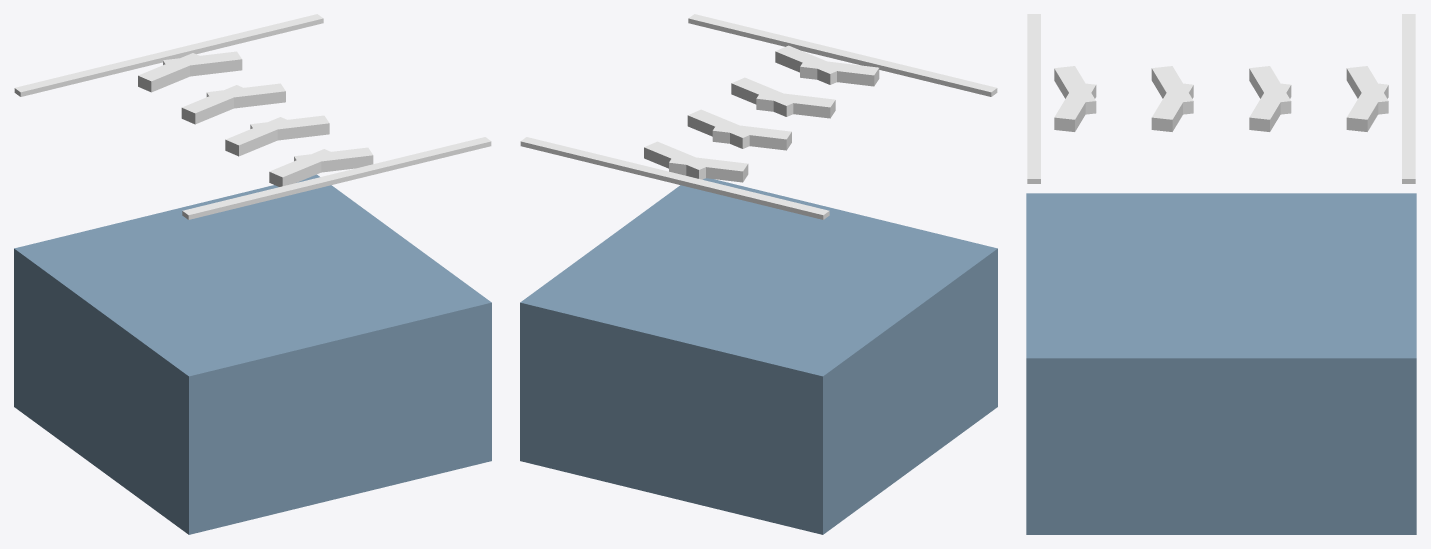
File: OnOffConveyorB_Half.glb
The picture shows the model from 3 angles, left to right: view 1: azimuth 30°, elevation 25°; view 2: azimuth 150°, elevation 25°; view 3: azimuth 270°, elevation 25°; orthographic projection. The views are drawn at different scales.
Visible parts, largest first — view 1: OnOffConveyorB_Half_body, rail_-0.016, rail_0.016, chev_2_1.016, chev_1_1.016, chev_3_1.016, chev_0_1.016, chev_1_-1.016, chev_0_-1.016, chev_2_-1.016, chev_3_-1.016; view 2: OnOffConveyorB_Half_body, rail_0.016, rail_-0.016, chev_2_1.016, chev_3_1.016, chev_1_-1.016, chev_0_1.016, chev_0_-1.016, chev_1_1.016, chev_3_-1.016, chev_2_-1.016; view 3: OnOffConveyorB_Half_body, rail_0.016, rail_-0.016, chev_3_-1.016, chev_2_-1.016, chev_0_-1.016, chev_1_-1.016, chev_2_1.016, chev_3_1.016, chev_1_1.016, chev_0_1.016.
Part boxes in pixels (x1=…): OnOffConveyorB_Half_body: x1=14, y1=174, x2=491, y2=534; rail_-0.016: x1=182, y1=137, x2=491, y2=219; rail_0.016: x1=14, y1=14, x2=323, y2=96; chev_2_1.016: x1=181, y1=85, x2=249, y2=124; chev_1_1.016: x1=225, y1=117, x2=293, y2=156; chev_3_1.016: x1=138, y1=53, x2=205, y2=92; chev_0_1.016: x1=269, y1=149, x2=336, y2=186; chev_1_-1.016: x1=250, y1=115, x2=329, y2=140; chev_0_-1.016: x1=294, y1=147, x2=373, y2=172; chev_2_-1.016: x1=206, y1=83, x2=285, y2=108; chev_3_-1.016: x1=163, y1=51, x2=242, y2=76; OnOffConveyorB_Half_body: x1=520, y1=178, x2=997, y2=534; rail_0.016: x1=520, y1=137, x2=829, y2=219; rail_-0.016: x1=688, y1=14, x2=997, y2=96; chev_2_1.016: x1=712, y1=123, x2=791, y2=150; chev_3_1.016: x1=669, y1=155, x2=748, y2=182; chev_1_-1.016: x1=731, y1=77, x2=799, y2=116; chev_0_1.016: x1=800, y1=59, x2=879, y2=86; chev_0_-1.016: x1=775, y1=45, x2=843, y2=84; chev_1_1.016: x1=756, y1=92, x2=835, y2=118; chev_3_-1.016: x1=644, y1=141, x2=711, y2=179; chev_2_-1.016: x1=687, y1=109, x2=749, y2=148; OnOffConveyorB_Half_body: x1=1026, y1=193, x2=1416, y2=534; rail_0.016: x1=1402, y1=14, x2=1415, y2=183; rail_-0.016: x1=1027, y1=14, x2=1040, y2=183; chev_3_-1.016: x1=1346, y1=83, x2=1388, y2=131; chev_2_-1.016: x1=1249, y1=82, x2=1291, y2=131; chev_0_-1.016: x1=1054, y1=82, x2=1096, y2=131; chev_1_-1.016: x1=1151, y1=82, x2=1193, y2=131; chev_2_1.016: x1=1249, y1=66, x2=1291, y2=114; chev_3_1.016: x1=1346, y1=66, x2=1388, y2=114; chev_1_1.016: x1=1151, y1=66, x2=1193, y2=114; chev_0_1.016: x1=1054, y1=66, x2=1096, y2=114.
Size of the model in its own units: 1 by 1.02 by 1.
